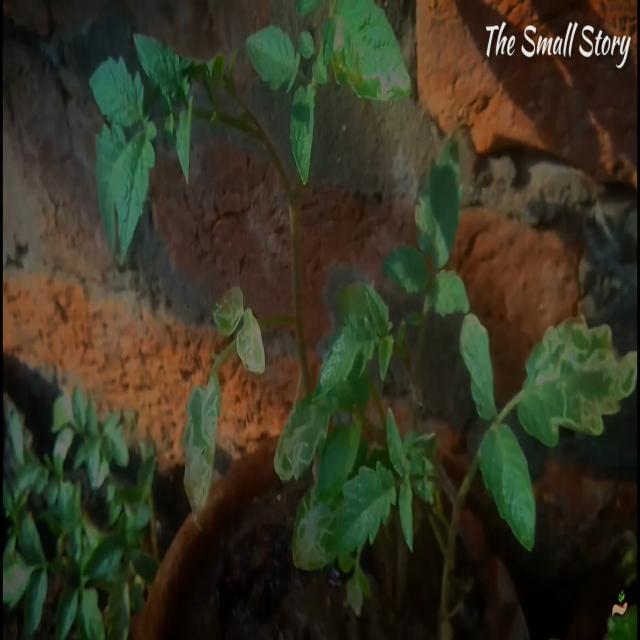Tomato healthy leaf: (481, 418, 536, 552), (326, 462, 396, 564), (112, 116, 157, 264), (90, 53, 146, 129), (244, 25, 301, 96)
Tomato target spot leaf: (518, 316, 638, 452), (322, 0, 416, 104), (180, 370, 221, 522), (274, 390, 336, 482), (291, 482, 339, 578), (236, 306, 266, 376), (211, 284, 244, 338)
